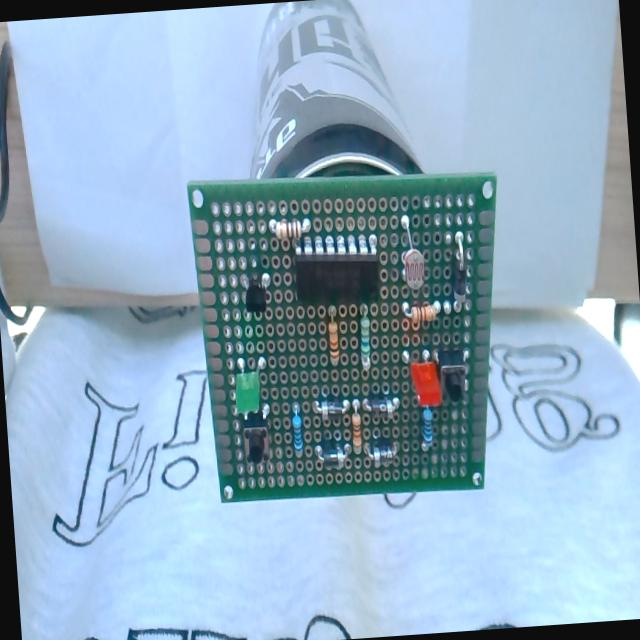IC: (292, 232, 381, 312)
cds: (398, 216, 428, 296)
diode: (448, 238, 468, 310), (363, 392, 398, 416), (315, 394, 348, 418), (316, 442, 347, 466), (367, 438, 395, 462)
led: (232, 356, 265, 416), (409, 358, 442, 408)
resistor: (268, 216, 306, 247), (401, 302, 438, 332), (357, 304, 372, 366), (326, 310, 340, 362), (290, 409, 304, 454), (419, 408, 434, 447), (350, 406, 362, 449)
switch: (439, 348, 469, 405), (241, 410, 271, 464)
transistor: (242, 272, 272, 317)
